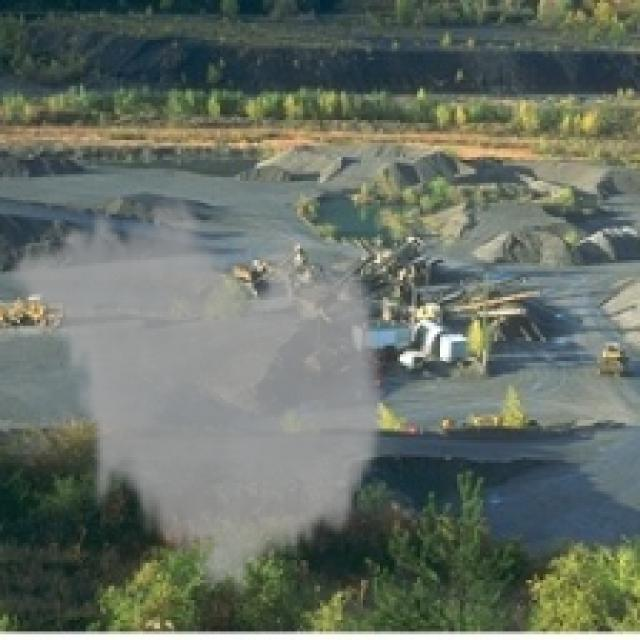smoke: (9, 183, 392, 603)
